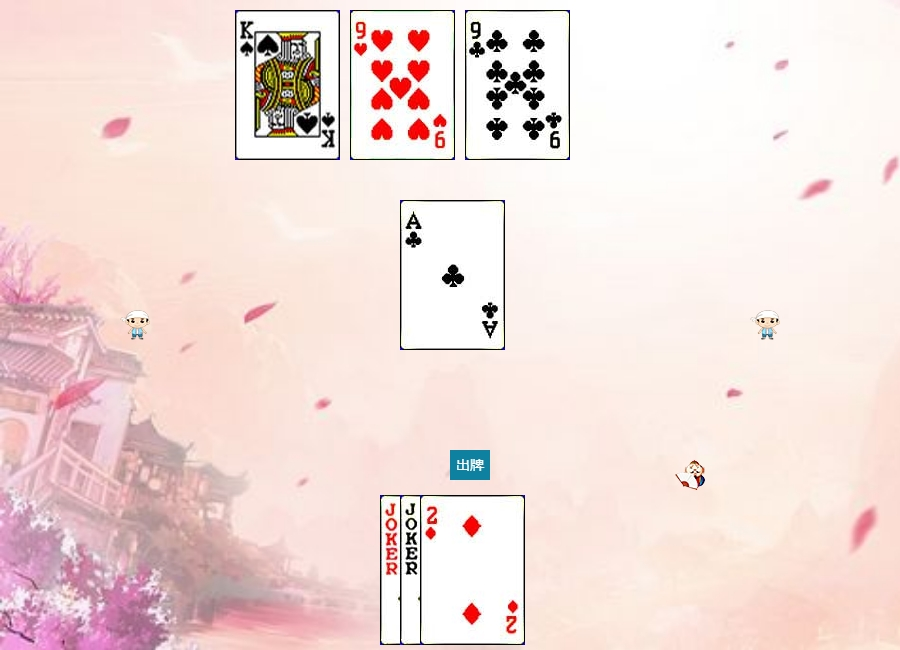13~4: (235, 10, 340, 160)
14~2: (400, 200, 505, 350)
15~1: (420, 495, 525, 645)
17~3: (400, 495, 505, 645)
18~4: (380, 495, 485, 645)
9~2: (465, 10, 570, 160)
9~3: (350, 10, 455, 160)
